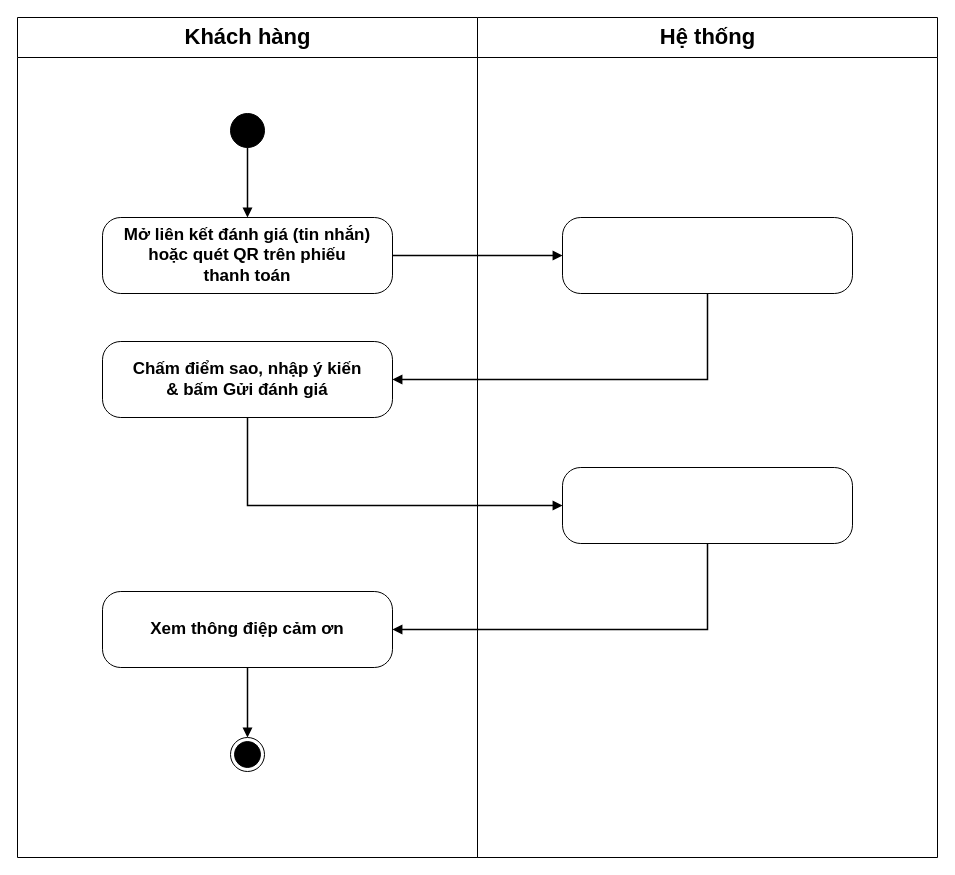
This 955x875 diagram has some shape labels left out. Here are the shapes that lost their labels. From the top down, the centre of each, then its label:
At point (707, 255): "Hiển thị biểu mẫu: món ăn, không gian, thái độ phục vụ".
At point (707, 505): "Lưu kết quả đánh giá".
